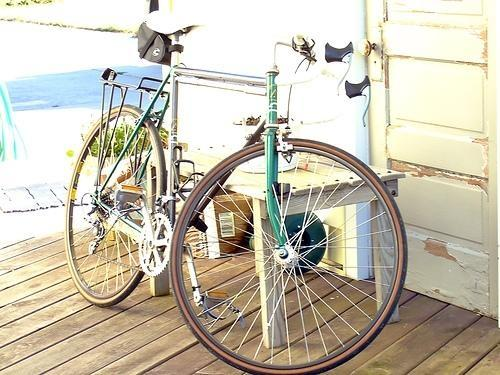bicycle: (65, 17, 411, 371)
